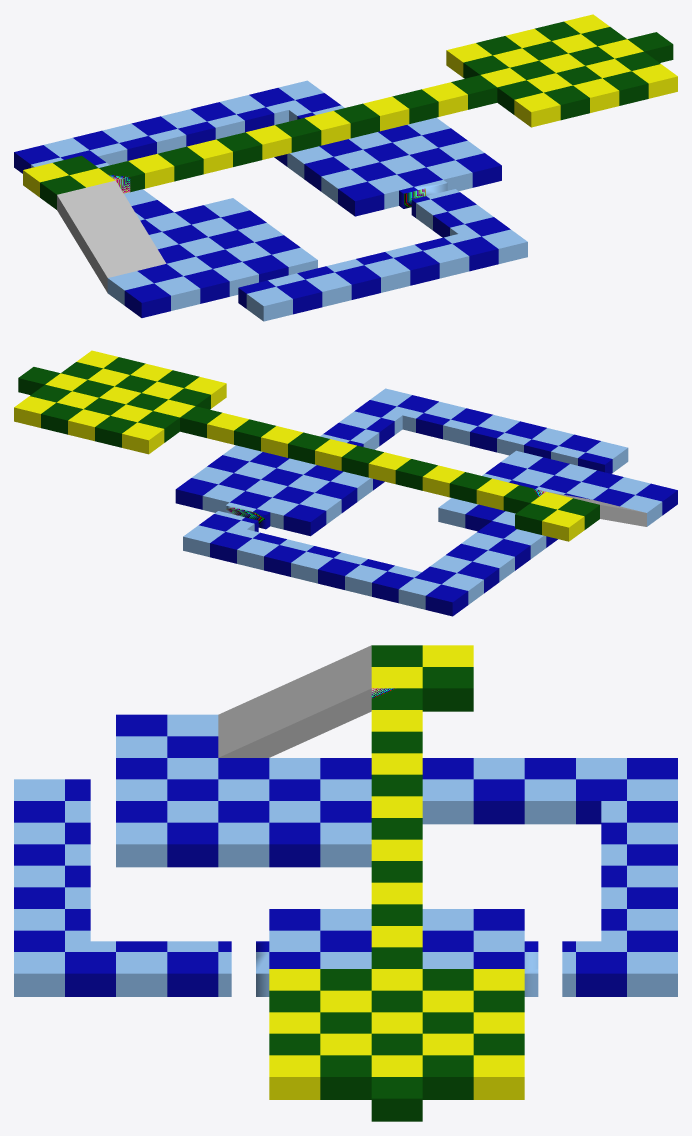
3 views of the same model, one above another, from view 1: azimuth 30°, elevation 25°; view 2: azimuth 150°, elevation 25°; view 3: azimuth 270°, elevation 25° (orthographic). The views are drawn at different scales.
Visible parts, largest first — view 1: Untitled; view 2: Untitled; view 3: Untitled.
Boxes of the visible parts, bbox=[...] form: Untitled: bbox=[14, 14, 677, 321]; Untitled: bbox=[14, 350, 677, 616]; Untitled: bbox=[14, 645, 677, 1121].
Size of the model in its own units: 4.2 by 0.4 by 2.6.
Materials: 1 (1 with a texture image).
